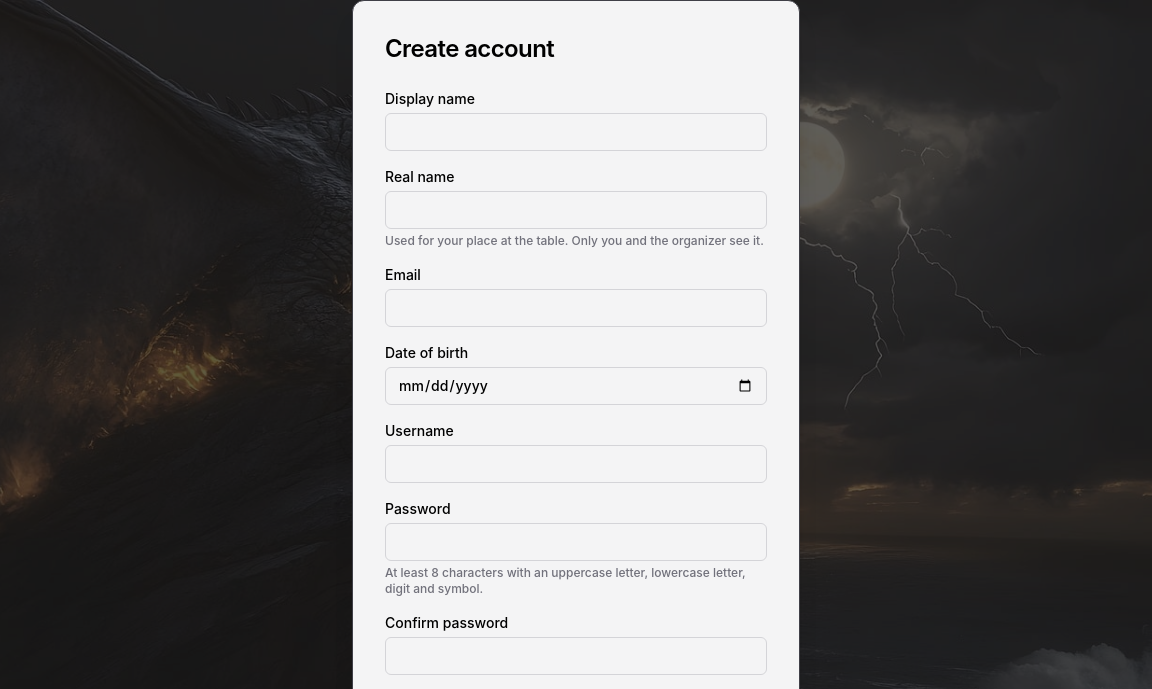
Test case: RegisterPage › maps a username conflict to the username field
The width and height of the screenshot is (1152, 689).
In the field labelled "Display name": (576, 132) x1=385 y1=113 x2=767 y2=151, type "Aria"
In the field labelled "Real name": (576, 210) x1=385 y1=191 x2=767 y2=229, type "Aria Ashton"
In the field labelled "Email": (576, 308) x1=385 y1=289 x2=767 y2=327, type "aria@example.com"
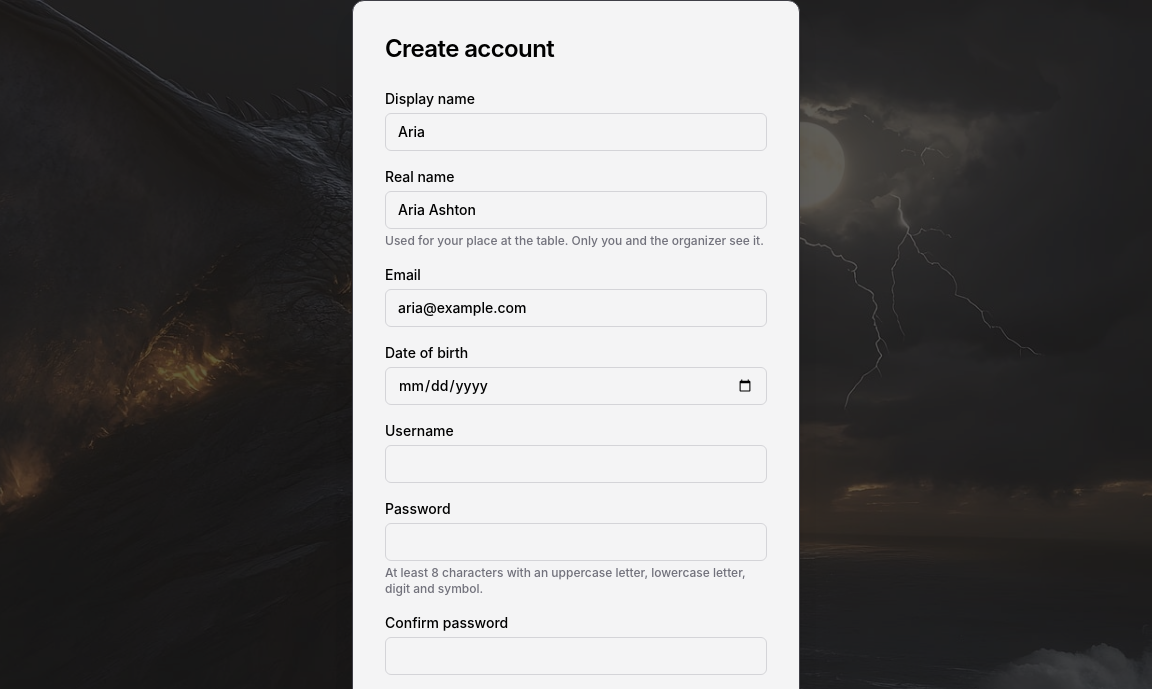
In the date field labelled "Date of birth": (576, 386) x1=385 y1=367 x2=767 y2=405, type "1990-01-15"
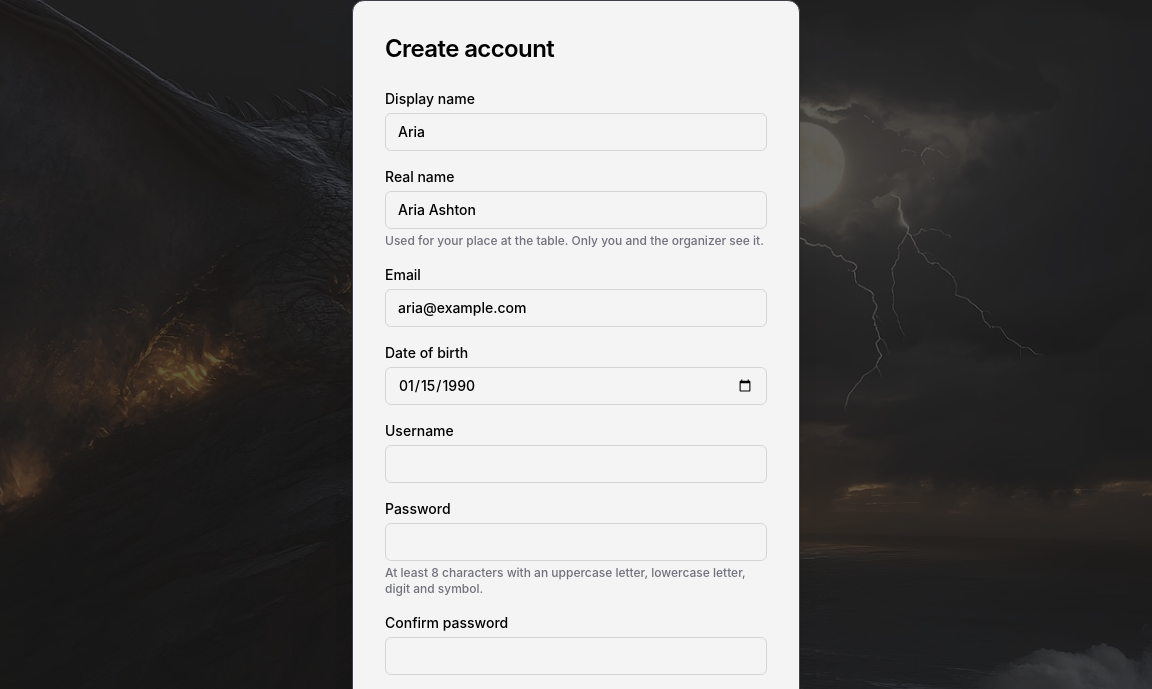
In the field labelled "Username": (576, 464) x1=385 y1=445 x2=767 y2=483, type "aria"
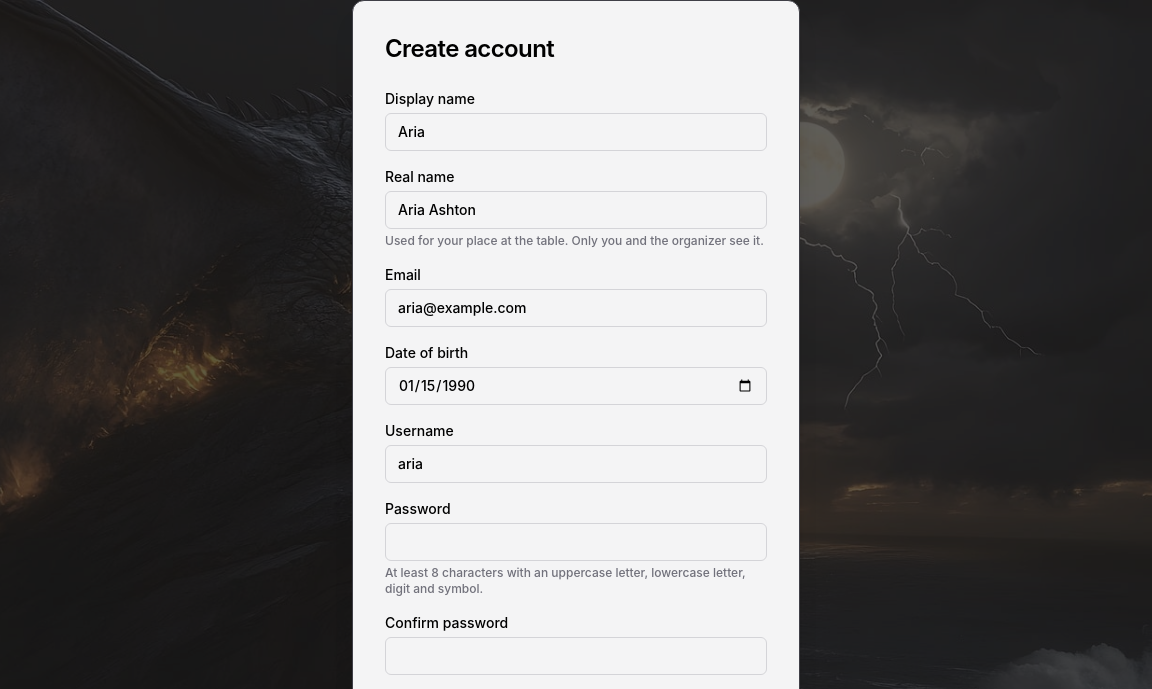
In the password field labelled "Password": (576, 542) x1=385 y1=523 x2=767 y2=561, type "Password1!"
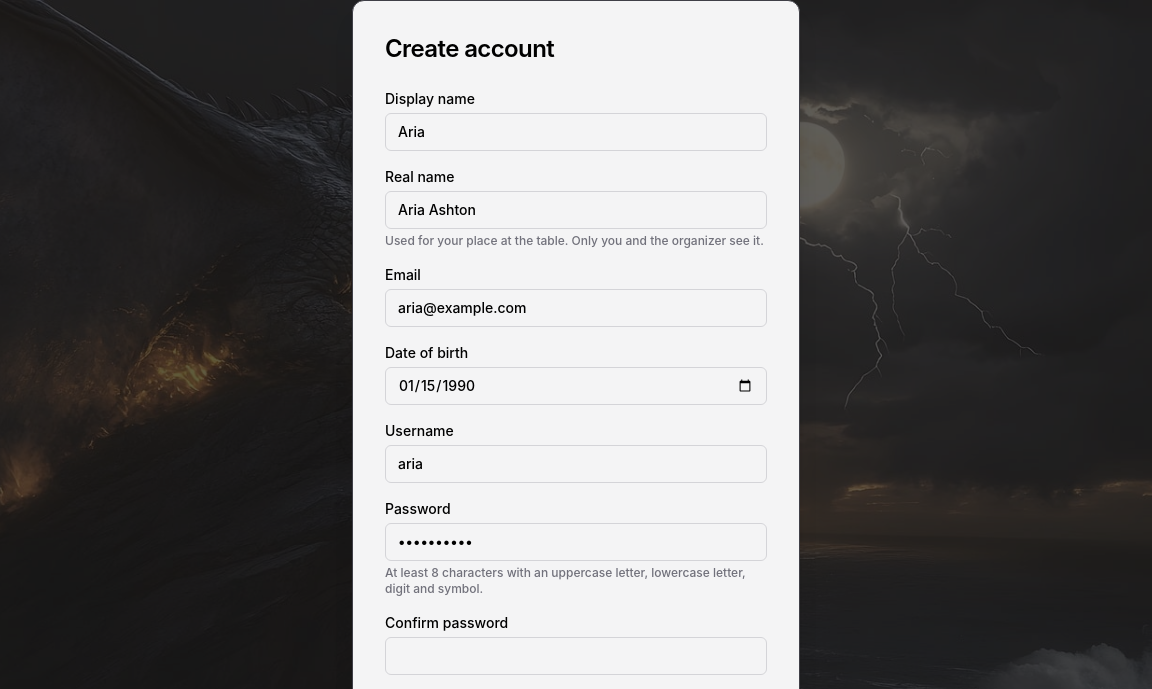
In the password field labelled "Confirm password": (576, 656) x1=385 y1=637 x2=767 y2=675, type "Password1!"
(page scrolled)
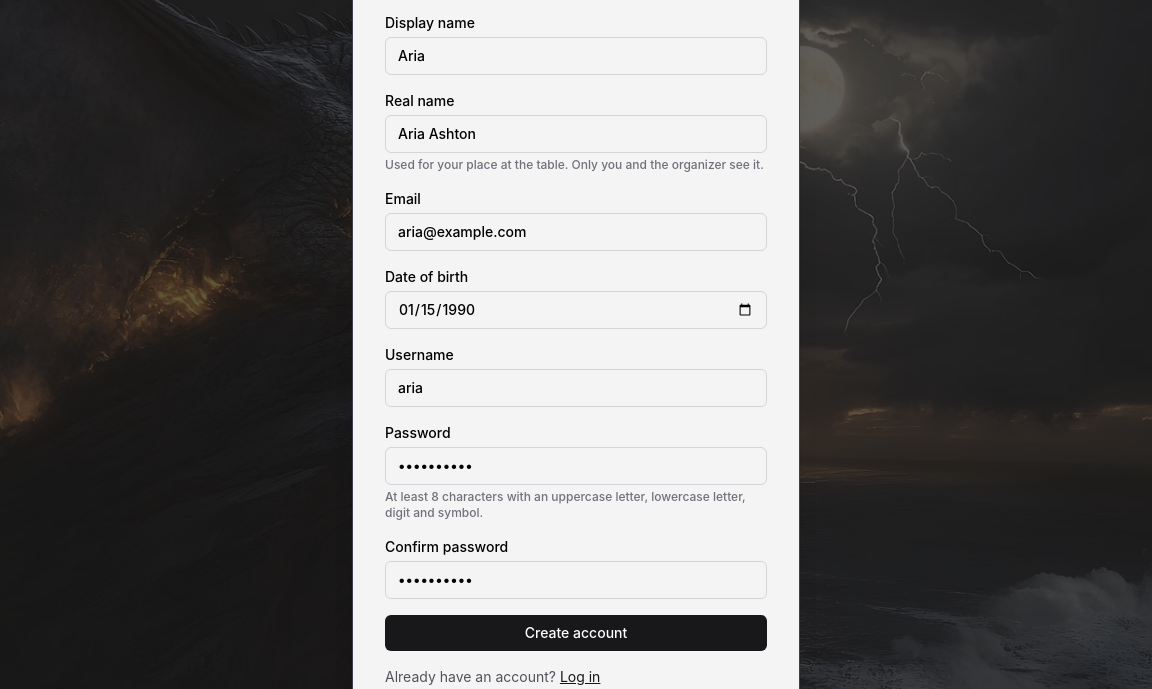
Click the button "Create account": (576, 633) x1=385 y1=615 x2=767 y2=651
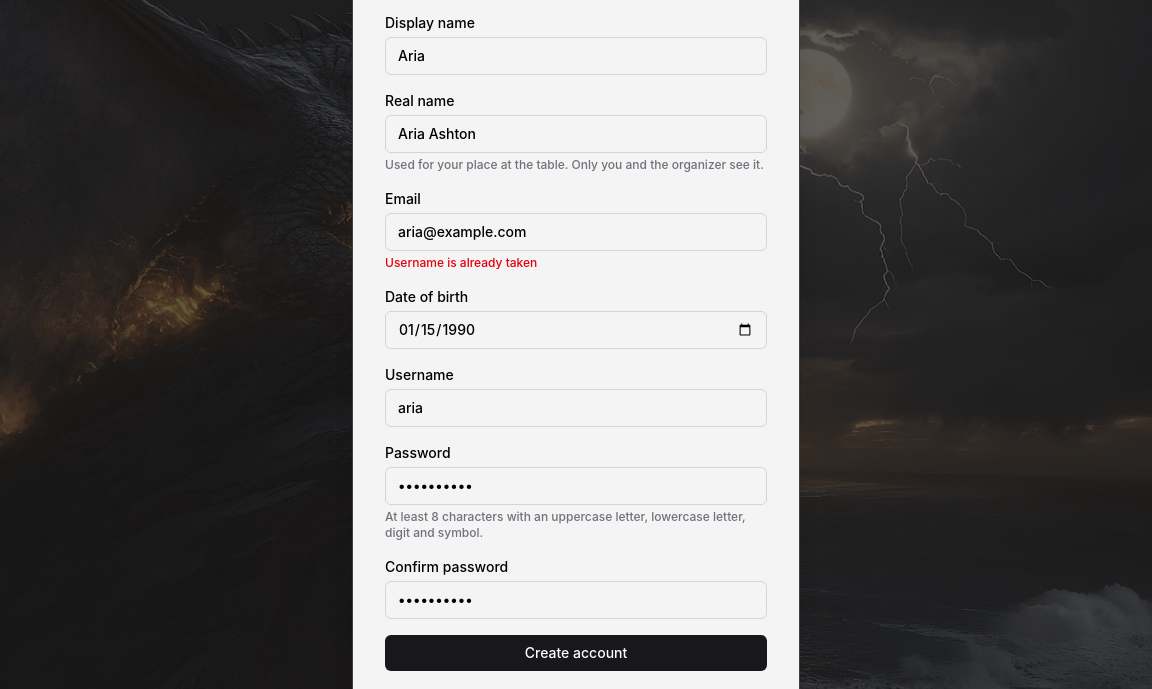
Check: the text "Username is already taken" is shown, box x1=385 y1=255 x2=537 y2=270
